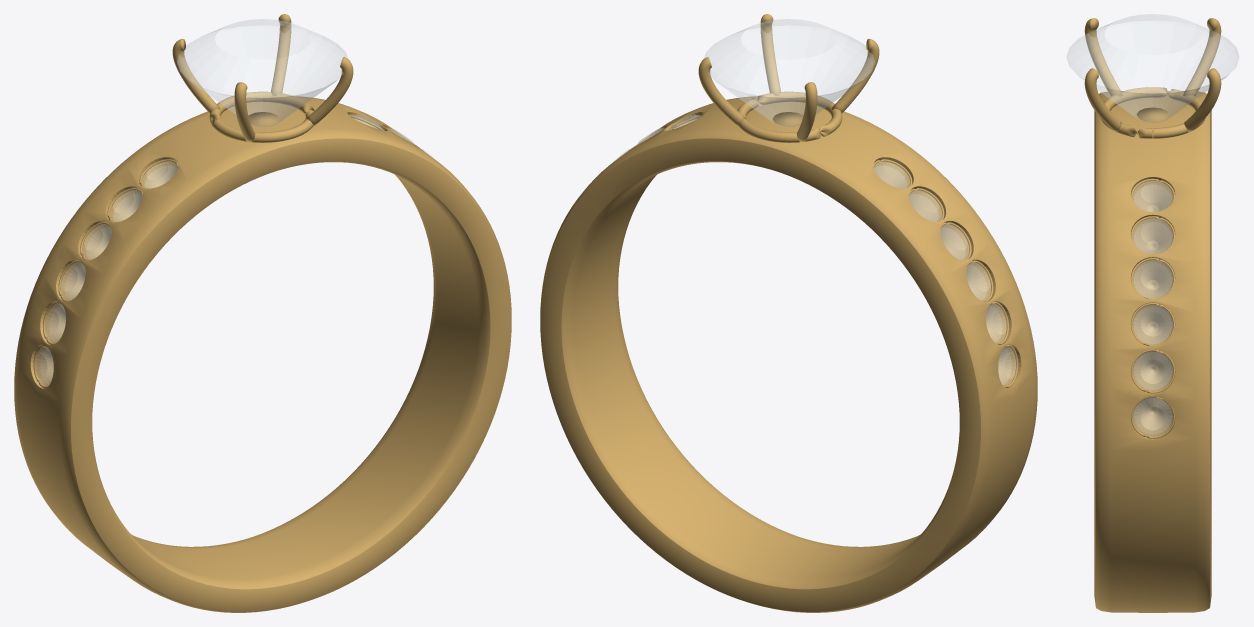
The model's file is accents-flush-accents.glb.
3 views of the same model, side by side, from view 1: azimuth 30°, elevation 25°; view 2: azimuth 150°, elevation 25°; view 3: azimuth 270°, elevation 25° (orthographic).
Parts seen in each view (by area): view 1: Band, Gem, Lower gallery, Prong.001, Prong, Prong.003, Gem.003, Prong.002, Gem.002, Gem.004, Gem.001, Gem.005; view 2: Band, Gem, Lower gallery, Prong.002, Prong.003, Prong, Gem.003, Prong.001, Gem.002, Gem.004, Gem.001, Gem.005; view 3: Band, Gem, Lower gallery, Gem.010, Gem.011, Gem.012, Gem.009, Gem.008, Gem.007, Prong.001, Prong.002, Prong (+6 smaller).
Boxes of the visible parts, left/top/right/bottom form: Band: left=14, top=96, right=511, bottom=612; Gem: left=177, top=19, right=347, bottom=126; Lower gallery: left=209, top=91, right=314, bottom=142; Prong.001: left=172, top=38, right=220, bottom=113; Prong: left=271, top=14, right=291, bottom=95; Prong.003: left=305, top=57, right=353, bottom=126; Gem.003: left=82, top=224, right=111, bottom=259; Prong.002: left=234, top=82, right=255, bottom=142; Gem.002: left=109, top=190, right=142, bottom=221; Gem.004: left=60, top=262, right=85, bottom=300; Gem.001: left=141, top=161, right=177, bottom=188; Gem.005: left=44, top=304, right=65, bottom=342; Band: left=540, top=96, right=1037, bottom=612; Gem: left=704, top=19, right=874, bottom=126; Lower gallery: left=737, top=91, right=842, bottom=142; Prong.002: left=831, top=38, right=879, bottom=113; Prong.003: left=760, top=14, right=780, bottom=95; Prong: left=698, top=57, right=746, bottom=126; Gem.003: left=940, top=224, right=969, bottom=259; Prong.001: left=796, top=82, right=817, bottom=142; Gem.002: left=909, top=190, right=942, bottom=221; Gem.004: left=966, top=262, right=991, bottom=300; Gem.001: left=874, top=161, right=910, bottom=188; Gem.005: left=986, top=303, right=1007, bottom=343; Band: left=1094, top=91, right=1211, bottom=612; Gem: left=1066, top=14, right=1239, bottom=122; Lower gallery: left=1100, top=87, right=1205, bottom=138; Gem.010: left=1133, top=305, right=1172, bottom=344; Gem.011: left=1133, top=351, right=1172, bottom=391; Gem.012: left=1133, top=398, right=1172, bottom=436; Gem.009: left=1133, top=260, right=1172, bottom=298; Gem.008: left=1133, top=218, right=1172, bottom=253; Gem.007: left=1133, top=180, right=1172, bottom=211; Prong.001: left=1183, top=18, right=1221, bottom=96; Prong.002: left=1084, top=18, right=1122, bottom=96; Prong: left=1184, top=68, right=1221, bottom=132.
Bounding box in the file's own units: 19.6 × 22.94 × 6.5.
